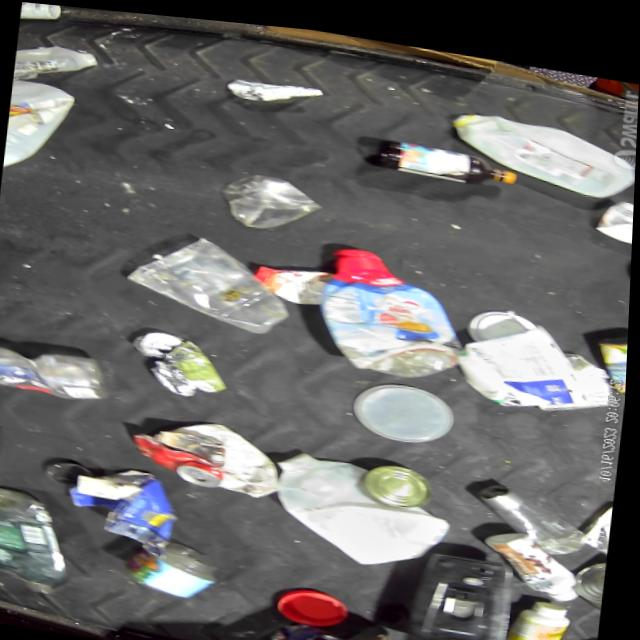can: (131, 425, 232, 484), (225, 66, 326, 105), (365, 450, 440, 502), (563, 339, 623, 404), (595, 316, 631, 379), (132, 322, 191, 357), (585, 483, 617, 543), (577, 543, 611, 599)
milk_jug: (271, 439, 462, 570), (445, 97, 638, 188), (4, 76, 79, 177), (13, 37, 102, 89)
plastic_bottle: (0, 338, 113, 402)
